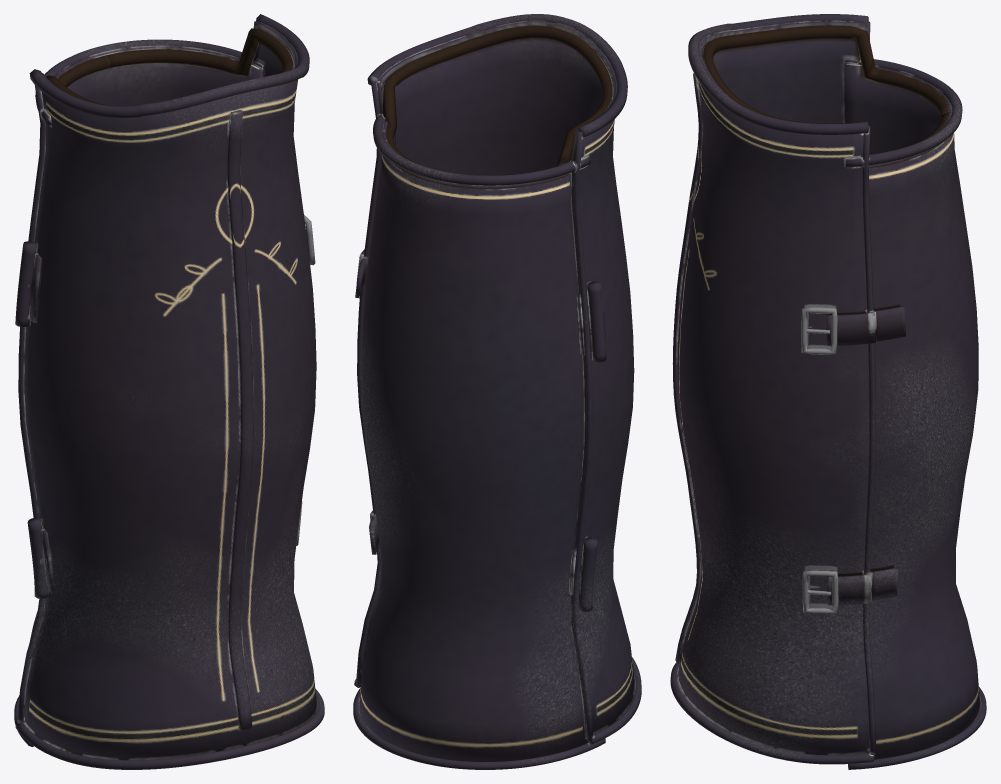
The model's file is SM_ObsidianSovereign_Shins_R.fbx.
3 views of the same model, side by side, from view 1: azimuth 30°, elevation 25°; view 2: azimuth 150°, elevation 25°; view 3: azimuth 270°, elevation 25° (orthographic). The views are drawn at different scales.
Parts seen in each view (by area): view 1: SM_ObsidianSovereign_Shins_R; view 2: SM_ObsidianSovereign_Shins_R; view 3: SM_ObsidianSovereign_Shins_R.
Boxes of the visible parts, box(x1,y1,x2,y2) form: SM_ObsidianSovereign_Shins_R: box(14, 14, 324, 769); SM_ObsidianSovereign_Shins_R: box(353, 14, 641, 769); SM_ObsidianSovereign_Shins_R: box(670, 14, 986, 769).
Size of the model in its own units: 14.5 by 15.27 by 35.52.
